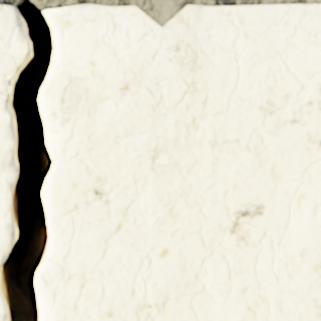brick: (35, 4, 320, 320), (0, 5, 31, 277), (0, 288, 8, 320)
crack: (0, 0, 52, 320)
